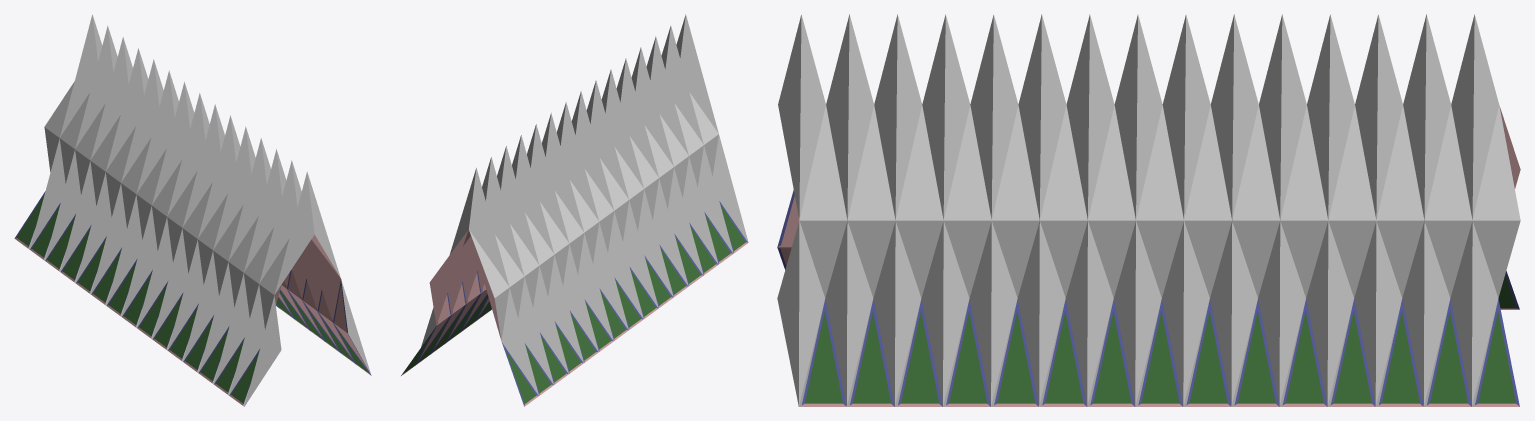
File: AFA_Structure.fbx
The picture shows the model from 3 angles, left to right: view 1: azimuth 30°, elevation 25°; view 2: azimuth 150°, elevation 25°; view 3: azimuth 270°, elevation 25°; orthographic projection. The views are drawn at different scales.
Parts seen in each view (by area): view 1: Hall; view 2: Hall; view 3: Hall.
Boxes of the visible parts, bbox=[...] form: Hall: bbox=[14, 14, 371, 406]; Hall: bbox=[401, 14, 748, 406]; Hall: bbox=[777, 14, 1520, 406].
Size of the model in its own units: 5483 by 8957 by 17524.
